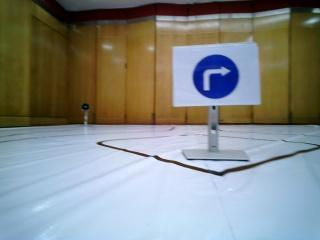right: (172, 45, 263, 108)
